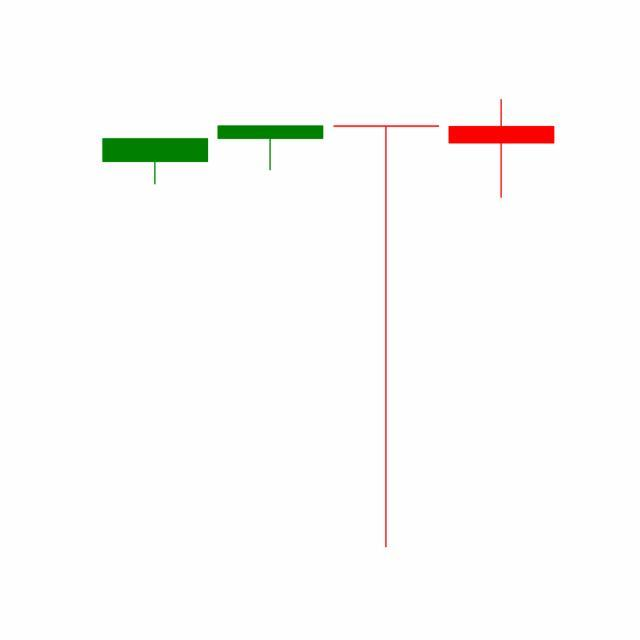Hanging Man: (329, 122, 445, 553)
